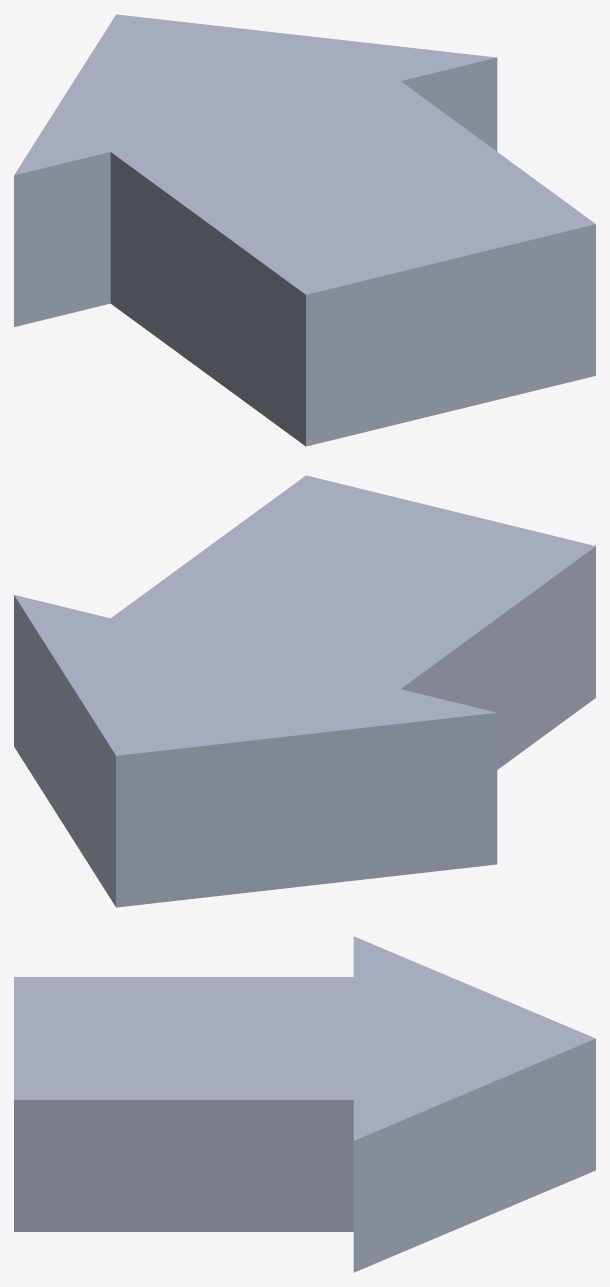
The model's file is arrow.glb.
3 renders of one model, top to bottom at view 1: azimuth 30°, elevation 25°; view 2: azimuth 150°, elevation 25°; view 3: azimuth 270°, elevation 25°, orthographic. The views are drawn at different scales.
Parts seen in each view (by area): view 1: Mesh_Mesh_head_geo.001_lambert2SG.001; view 2: Mesh_Mesh_head_geo.001_lambert2SG.001; view 3: Mesh_Mesh_head_geo.001_lambert2SG.001.
Boxes of the visible parts, box(x1,y1,x2,y2) form: Mesh_Mesh_head_geo.001_lambert2SG.001: box(14, 14, 595, 446); Mesh_Mesh_head_geo.001_lambert2SG.001: box(14, 475, 595, 907); Mesh_Mesh_head_geo.001_lambert2SG.001: box(14, 936, 595, 1272).
Size of the model in its own units: 0.01 by 0.003 by 0.012.
